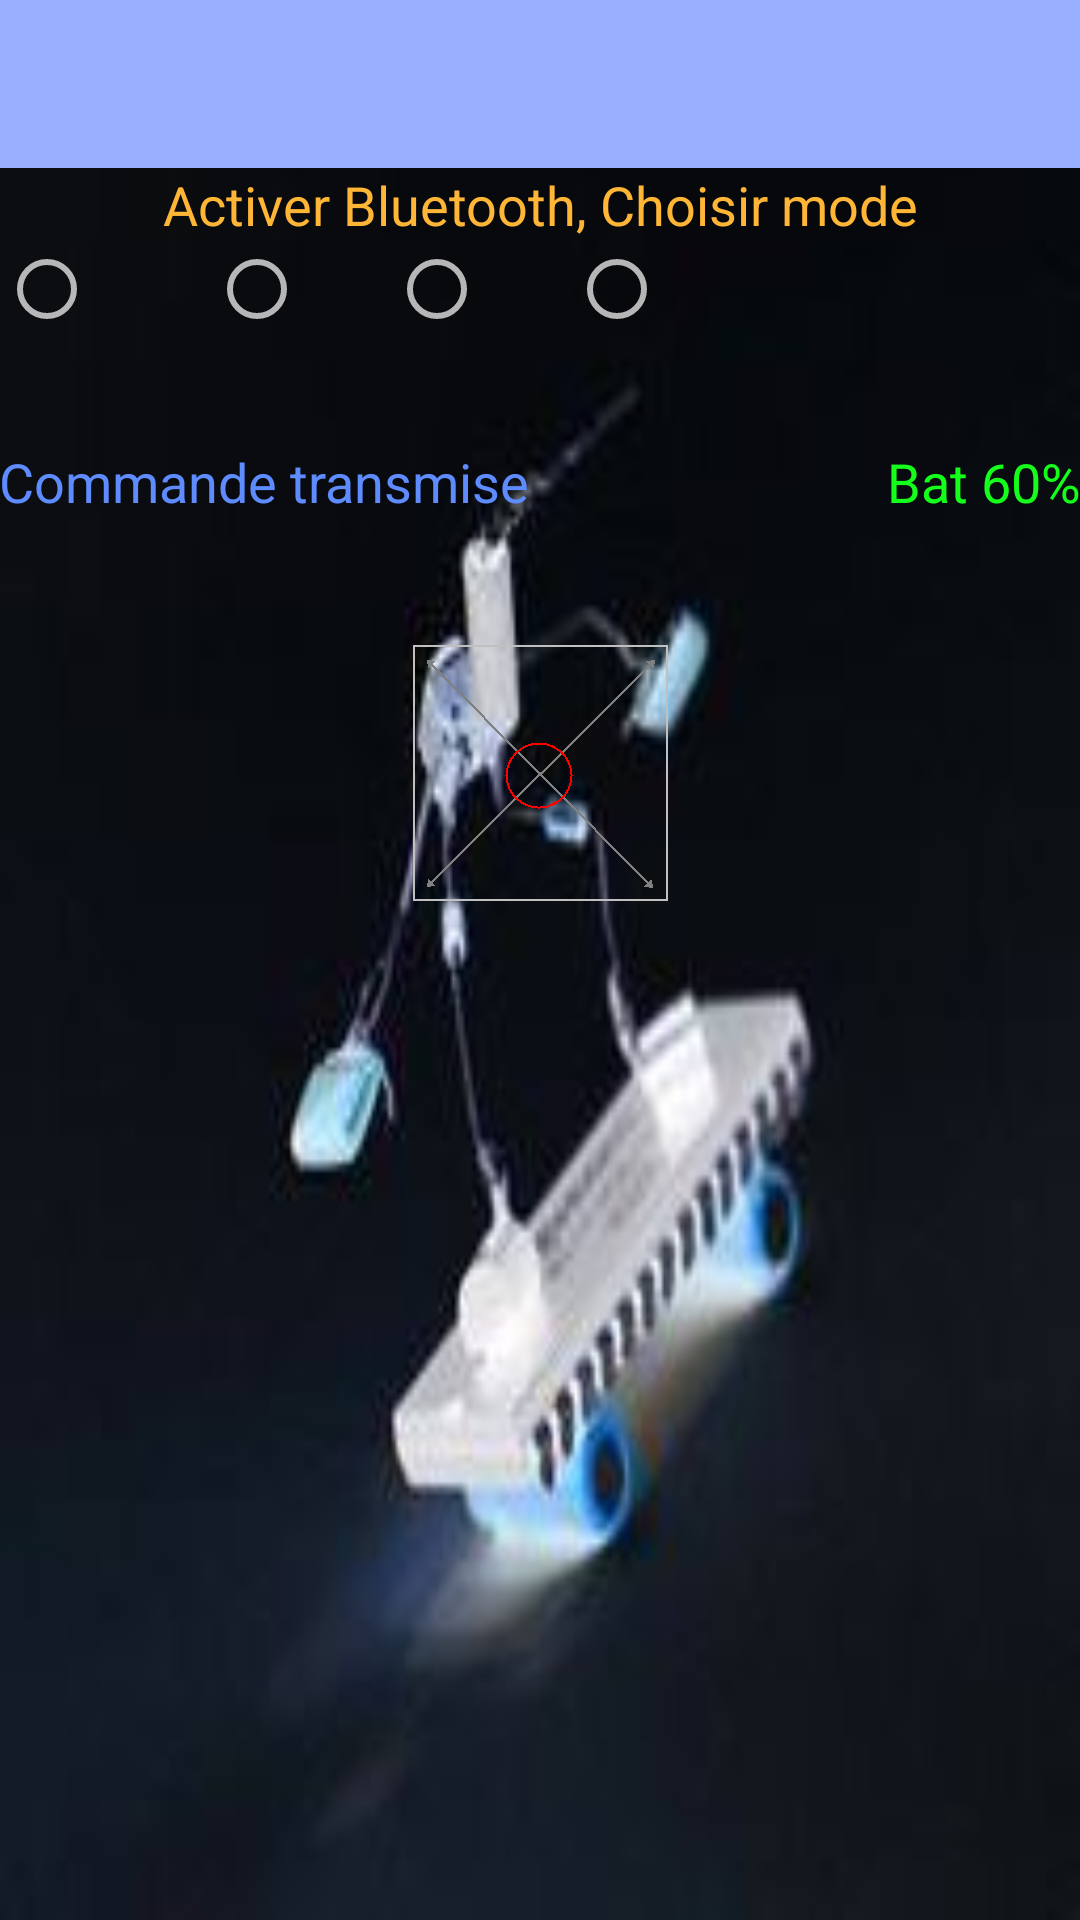

Icon click points for this 1080 x 1920 phone screenshot, format (x,y):
zonetouch: (540,773)
